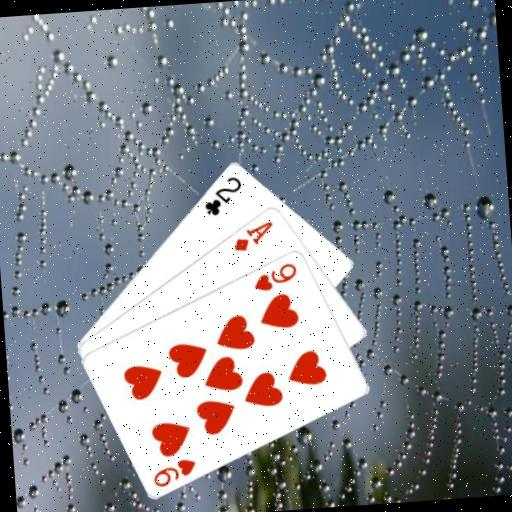2C: (199, 172, 245, 217)
9H: (249, 259, 300, 294), (149, 454, 200, 489)
AD: (229, 217, 276, 254)
